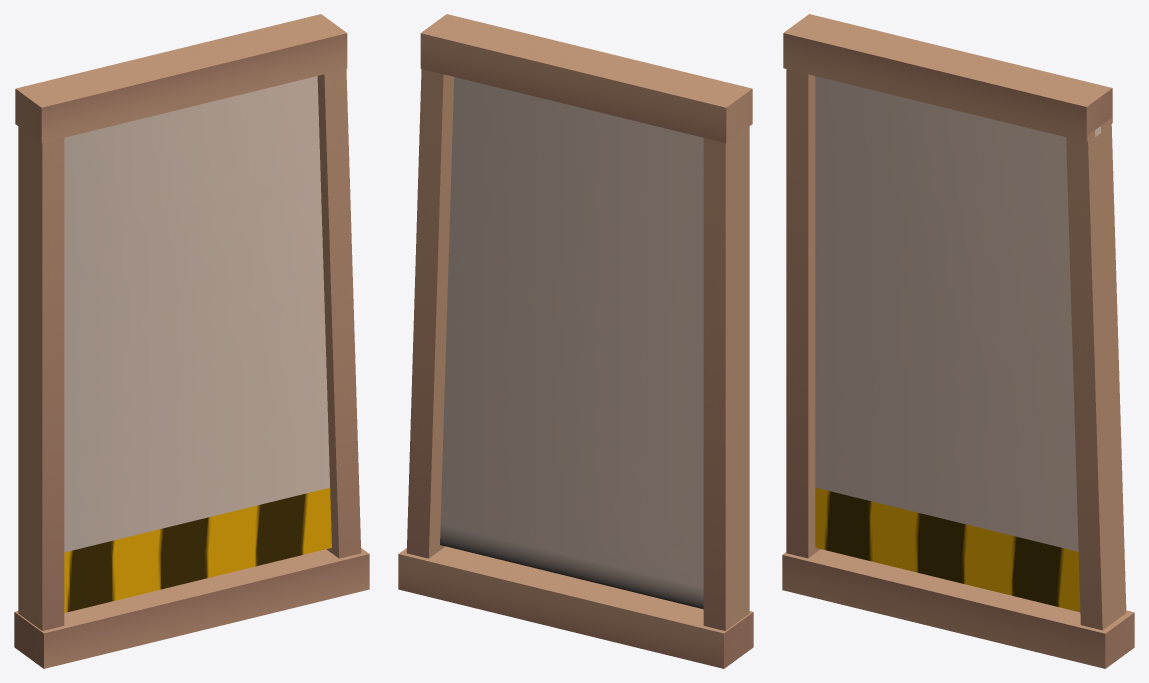
Rendered from Door.fbx.
3 renders of one model, left to right at view 1: azimuth 30°, elevation 25°; view 2: azimuth 150°, elevation 25°; view 3: azimuth 330°, elevation 25°, orthographic.
Parts seen in each view (by area): view 1: Wooden Beam.036; view 2: Wooden Beam.036; view 3: Wooden Beam.036.
Boxes of the visible parts, <box> form: Wooden Beam.036: <box>14,14,369,668</box>; Wooden Beam.036: <box>398,14,753,668</box>; Wooden Beam.036: <box>782,14,1134,668</box>.
Size of the model in its own units: 1647 by 2701 by 258.
